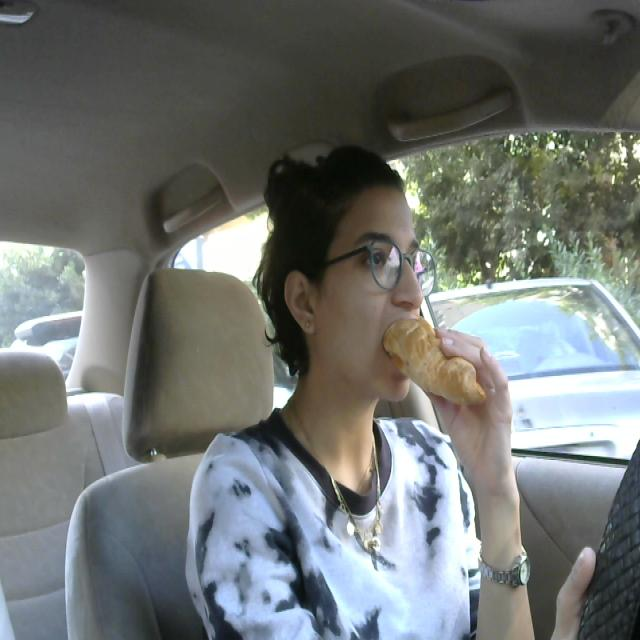eating: (376, 302, 497, 420)
